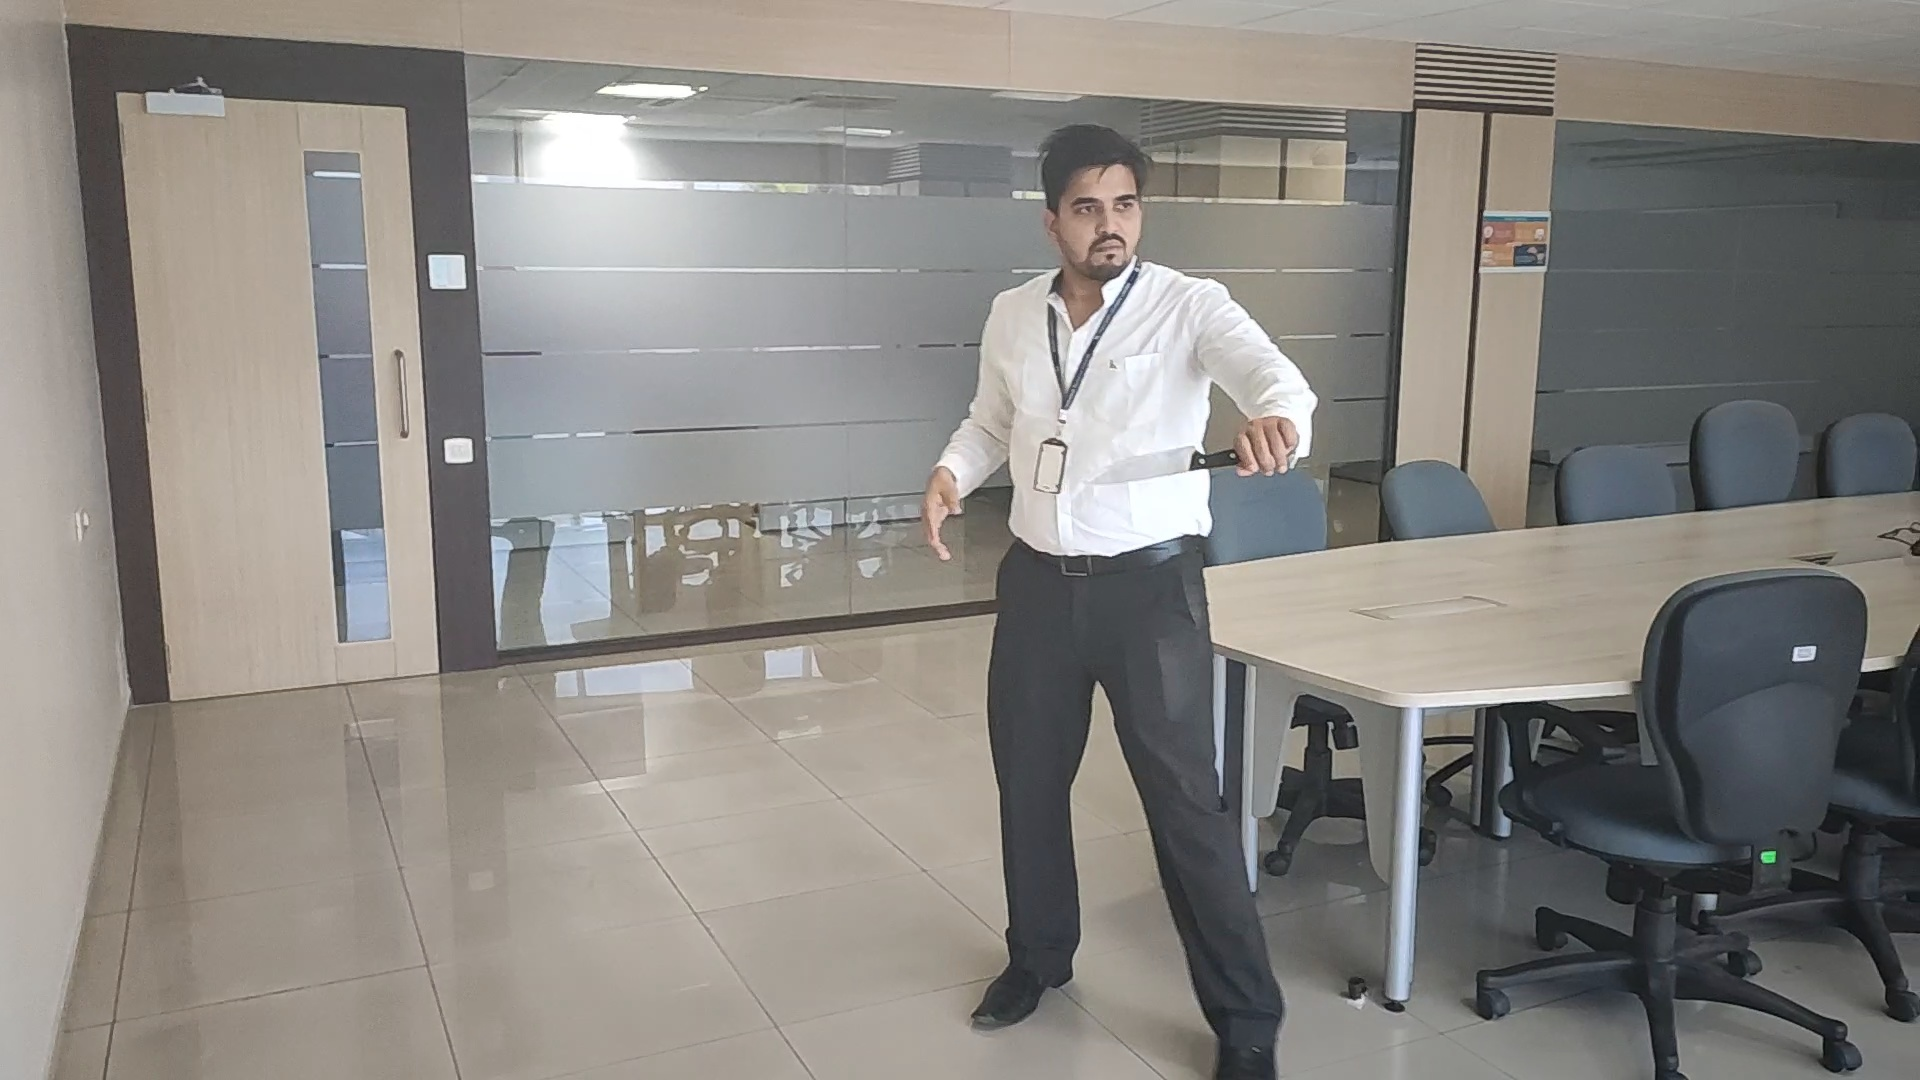knife: (1092, 444, 1232, 485)
